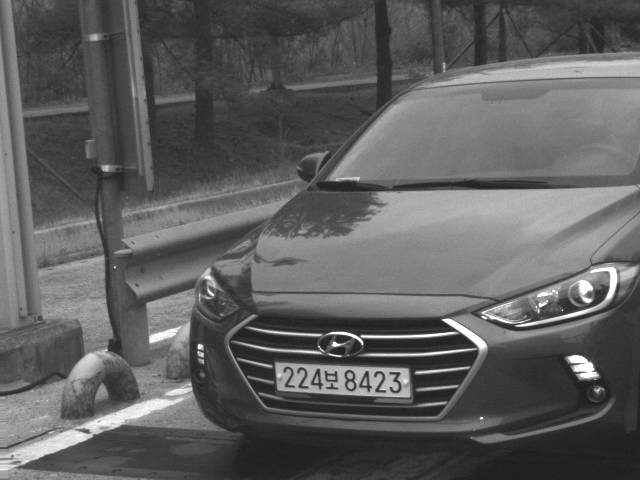car: (186, 51, 639, 461)
plate: (272, 361, 415, 398)
